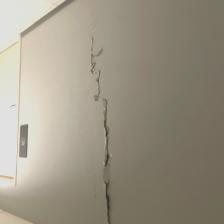Medium: (75, 42, 128, 222)
